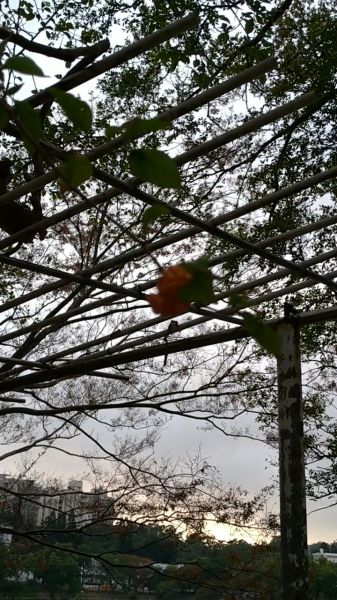eggs: (135, 263, 203, 318)
